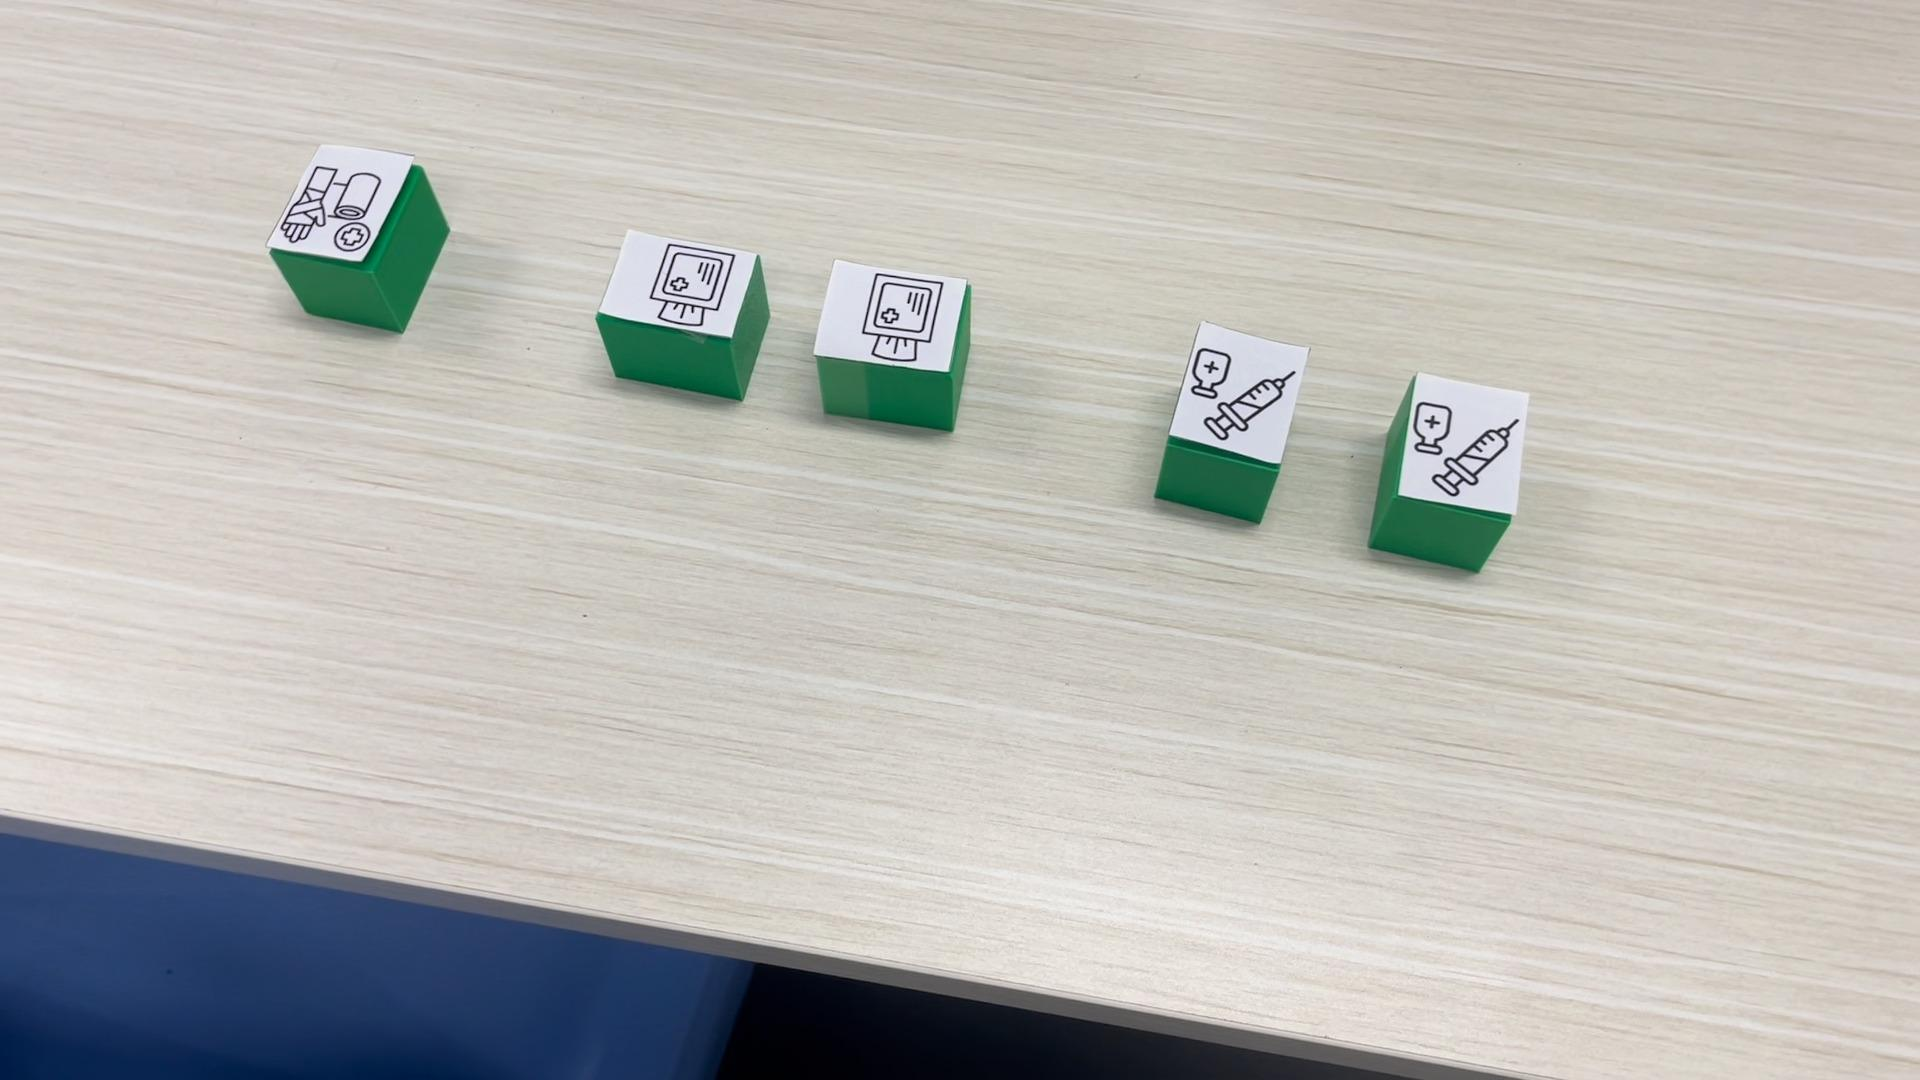Bandages: (269, 140, 450, 332)
Gauze: (595, 228, 770, 402), (811, 258, 971, 433)
antiseptic cream: (1367, 369, 1534, 572), (1153, 318, 1305, 522)
